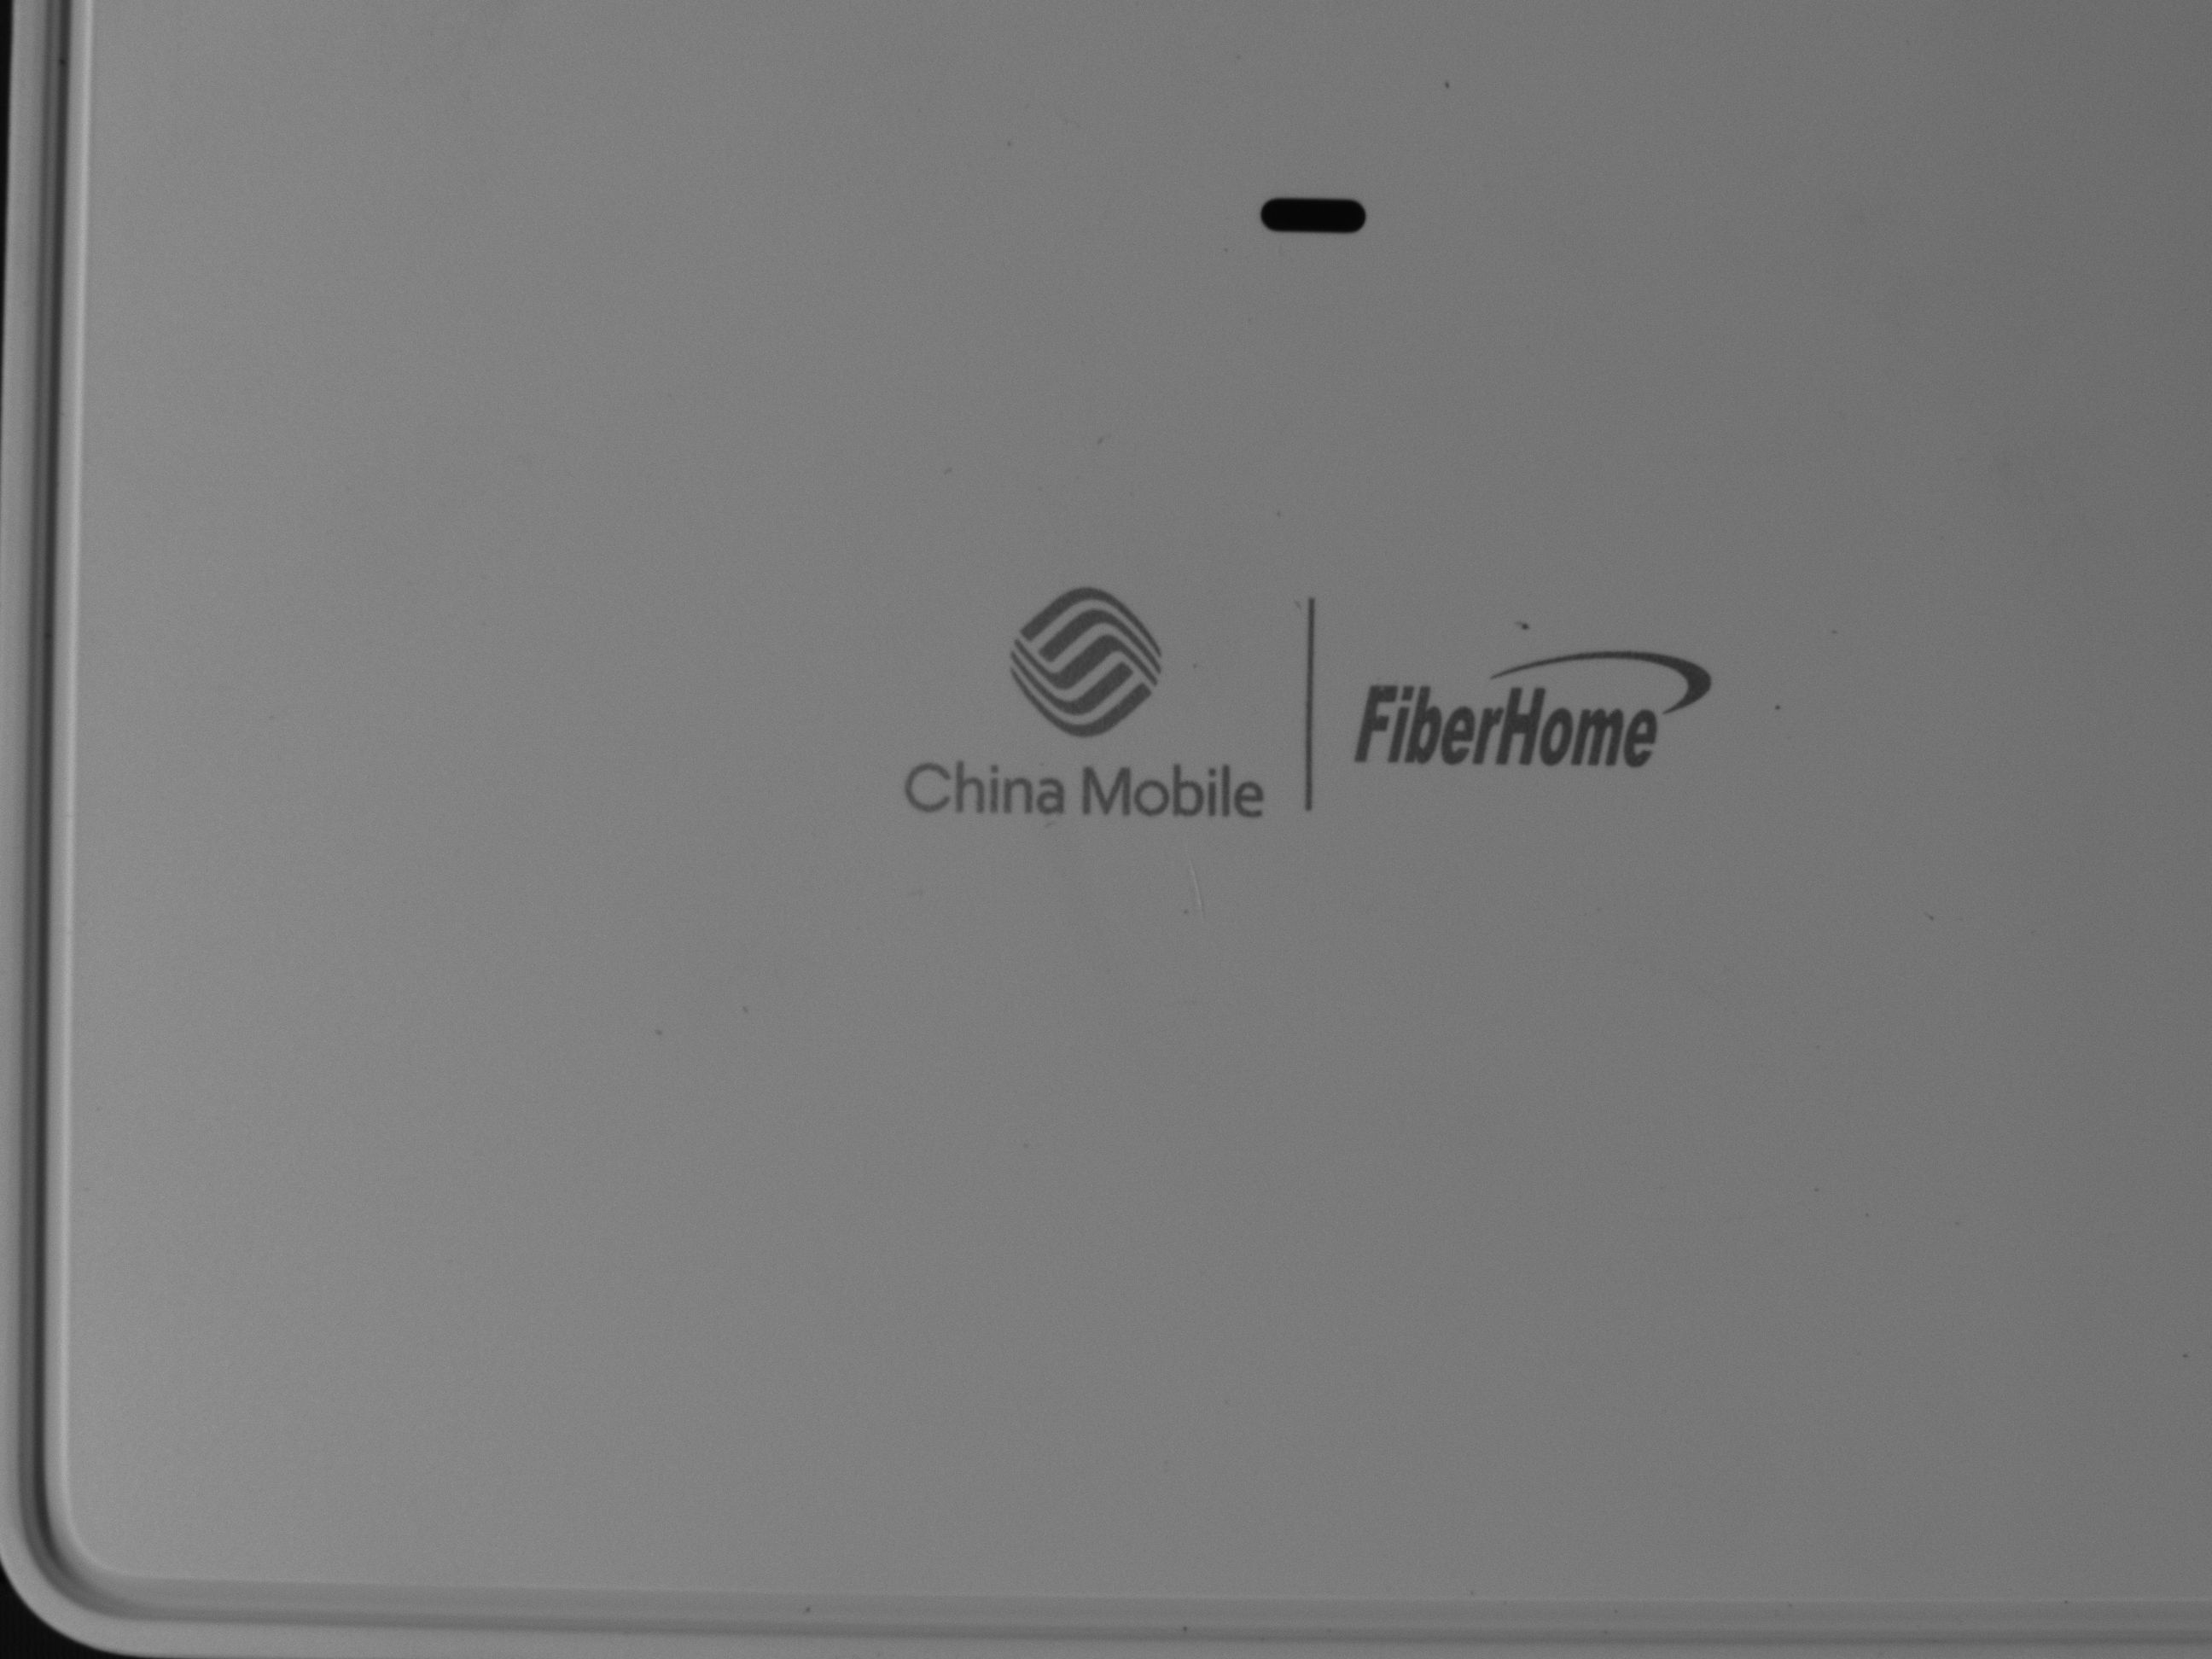BX_HG6371FMobileFiberhome: (874, 561, 1714, 849)
